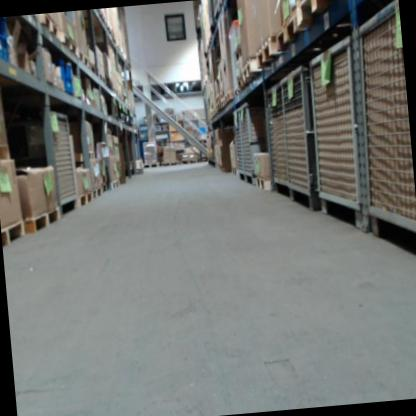pallet: (272, 10, 307, 55), (296, 0, 352, 27), (24, 207, 62, 236), (256, 38, 283, 71), (2, 220, 27, 248), (40, 12, 61, 43), (61, 33, 80, 60), (242, 61, 260, 82), (77, 192, 95, 208), (77, 48, 90, 70), (255, 175, 272, 190), (224, 90, 235, 106), (92, 186, 103, 199), (160, 160, 179, 167), (109, 179, 120, 190), (143, 162, 160, 169), (181, 159, 198, 164), (88, 151, 96, 159)
small_load_carrier: (0, 21, 15, 67), (60, 63, 74, 98)
stillage: (349, 0, 416, 252), (301, 30, 374, 225), (277, 63, 320, 212), (38, 102, 83, 214), (261, 74, 292, 198), (238, 99, 272, 188), (230, 106, 248, 184)
